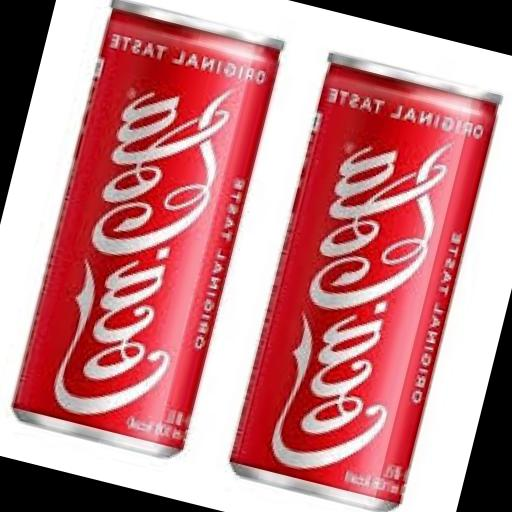Coca: (209, 39, 512, 512), (0, 0, 295, 477)
